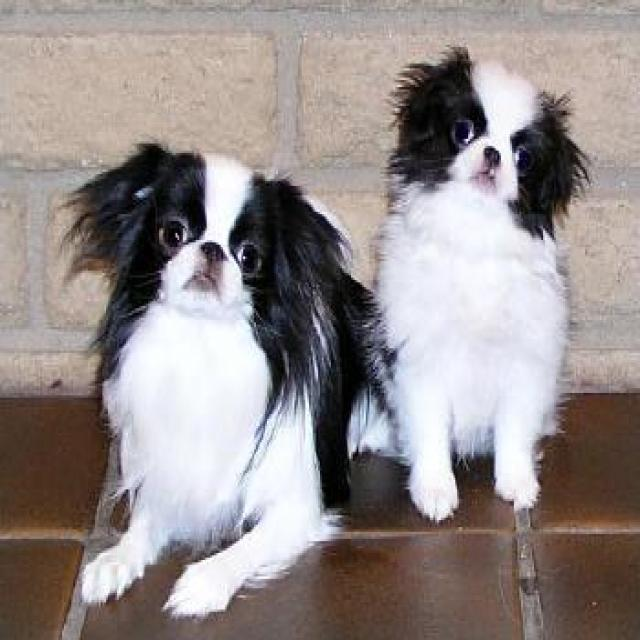husky: (49, 134, 384, 626), (375, 47, 587, 520)
